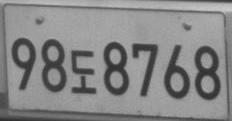6: (163, 44, 190, 99)
7: (131, 42, 159, 97)
8: (193, 44, 222, 101), (40, 38, 68, 92), (103, 41, 129, 96)
9: (10, 36, 36, 90)
도: (70, 49, 97, 94)
